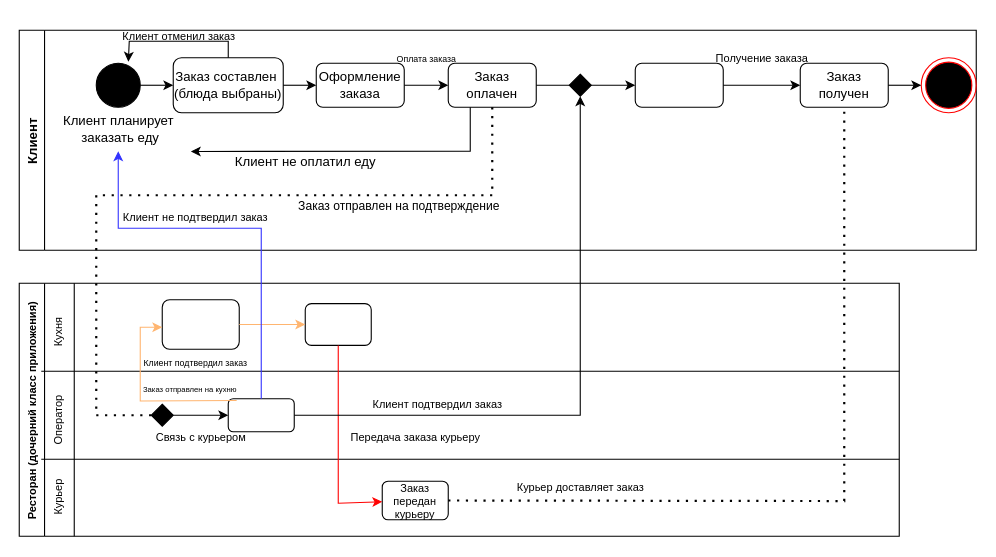
Some shapes in this 996 by 557 pixel diagram are drawn without their labels. The box of each missing label's shape, as (x1, y1, x2, y2) in pixels:
Заказ на приготовлении: (161, 299, 239, 349)
Заказ подтверждён: (227, 398, 294, 432)
Заказ приготовлен: (304, 302, 371, 345)
Заказ создан: (634, 62, 723, 107)
